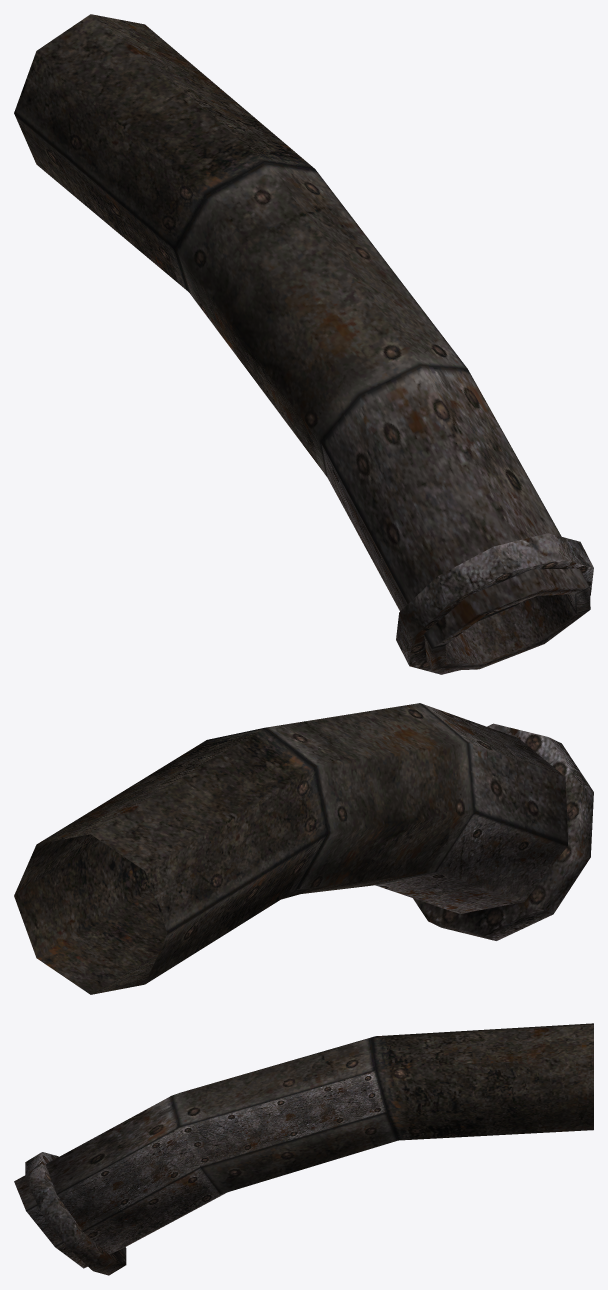
The model's file is cistern_breakable_pipe03.dae.
The picture shows the model from 3 angles, top to bottom: view 1: azimuth 30°, elevation 25°; view 2: azimuth 150°, elevation 25°; view 3: azimuth 270°, elevation 25°; orthographic projection. The views are drawn at different scales.
Visible parts, largest first — view 1: cistern_breakable_pipe03; view 2: cistern_breakable_pipe03; view 3: cistern_breakable_pipe03.
Boxes of the visible parts, bbox=[...] form: cistern_breakable_pipe03: bbox=[14, 14, 593, 674]; cistern_breakable_pipe03: bbox=[14, 703, 593, 994]; cistern_breakable_pipe03: bbox=[14, 1023, 593, 1275].
Size of the model in its own units: 0.4089 by 0.8267 by 1.8.
